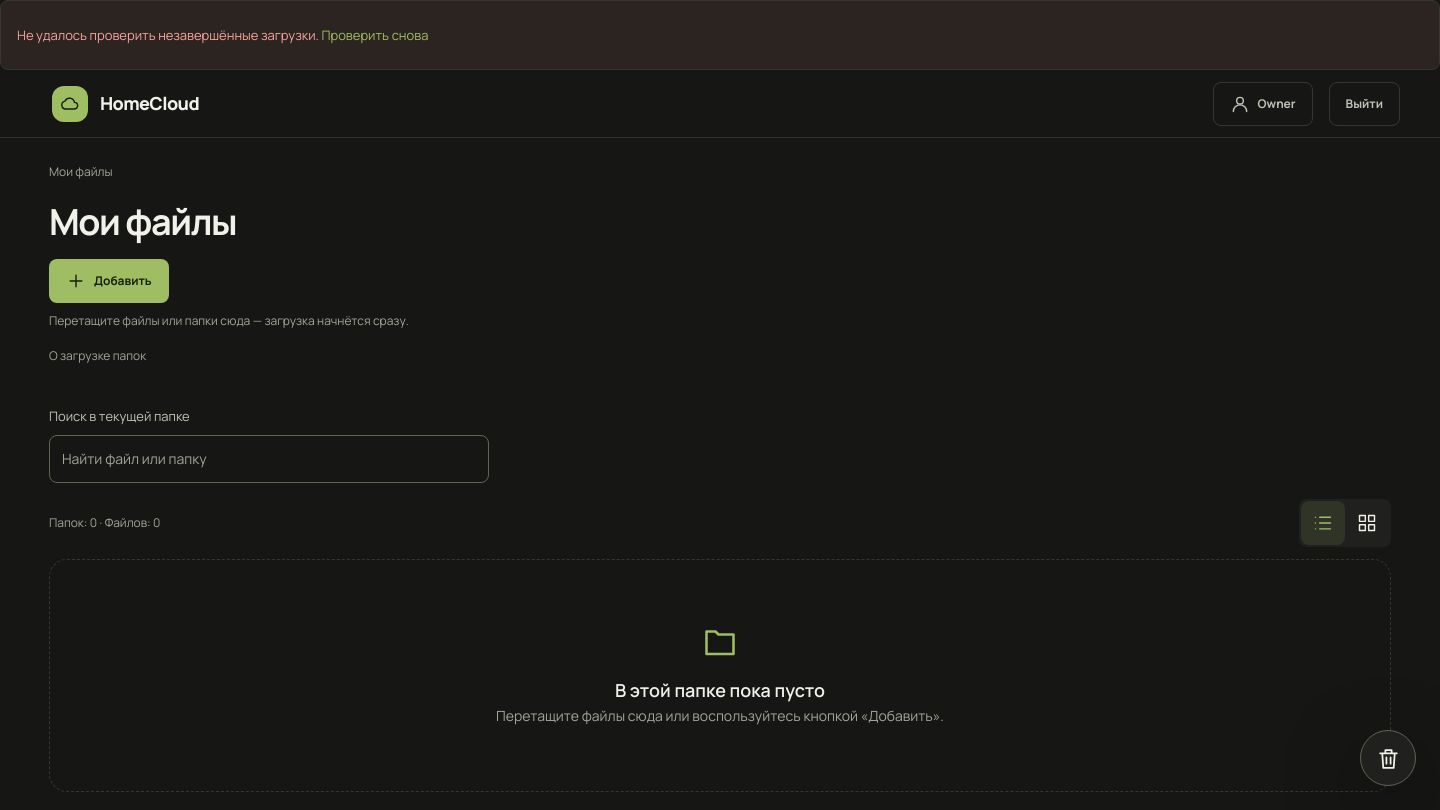
Test: authentication UX › keeps trash open when a nested destructive confirmation is cancelled
Click the button named "Открыть корзину".
click(1388, 758)  # box [1360,730,1416,786]
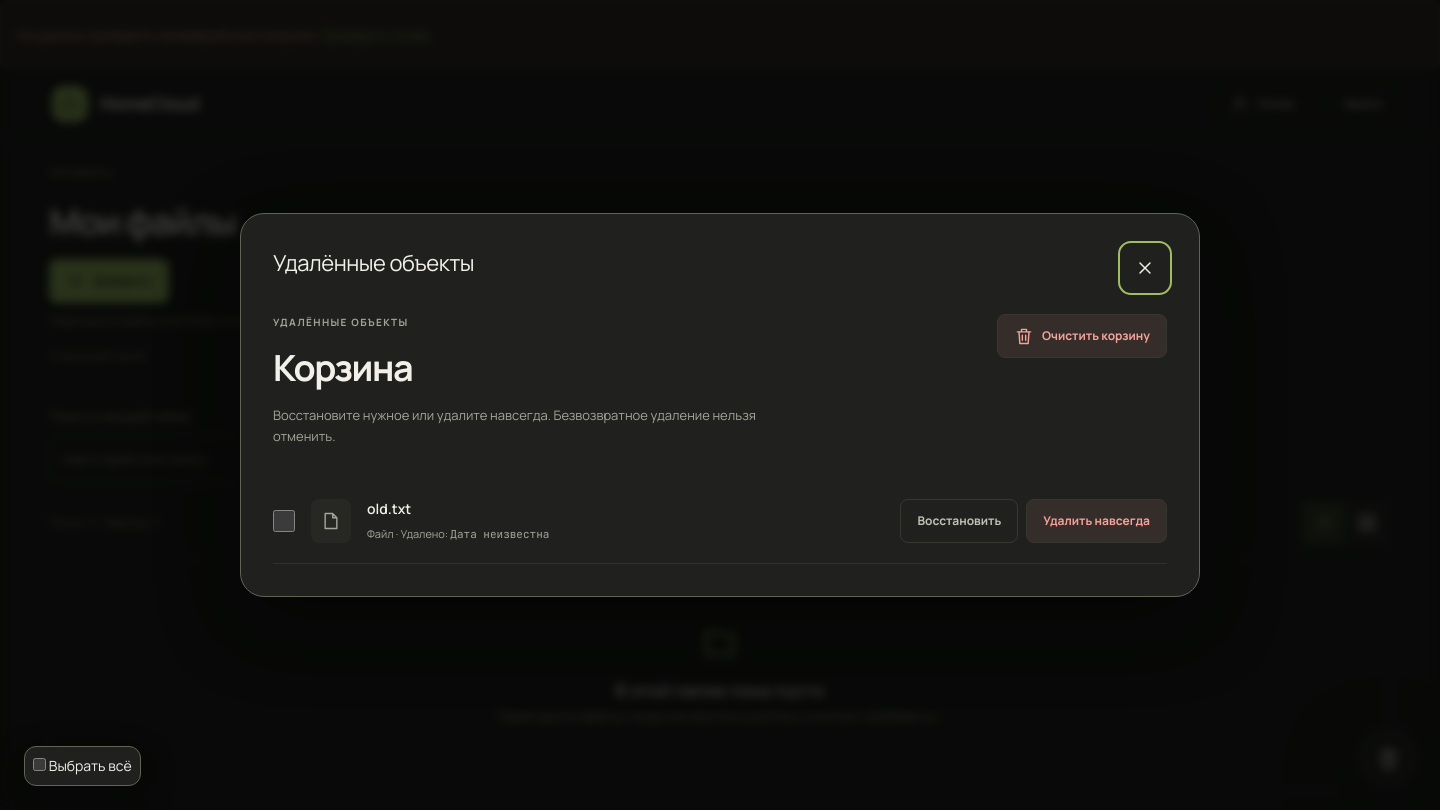
Click the button with aria-label "Удалить old.txt навсегда".
click(1097, 521)  # box [1026,499,1167,543]
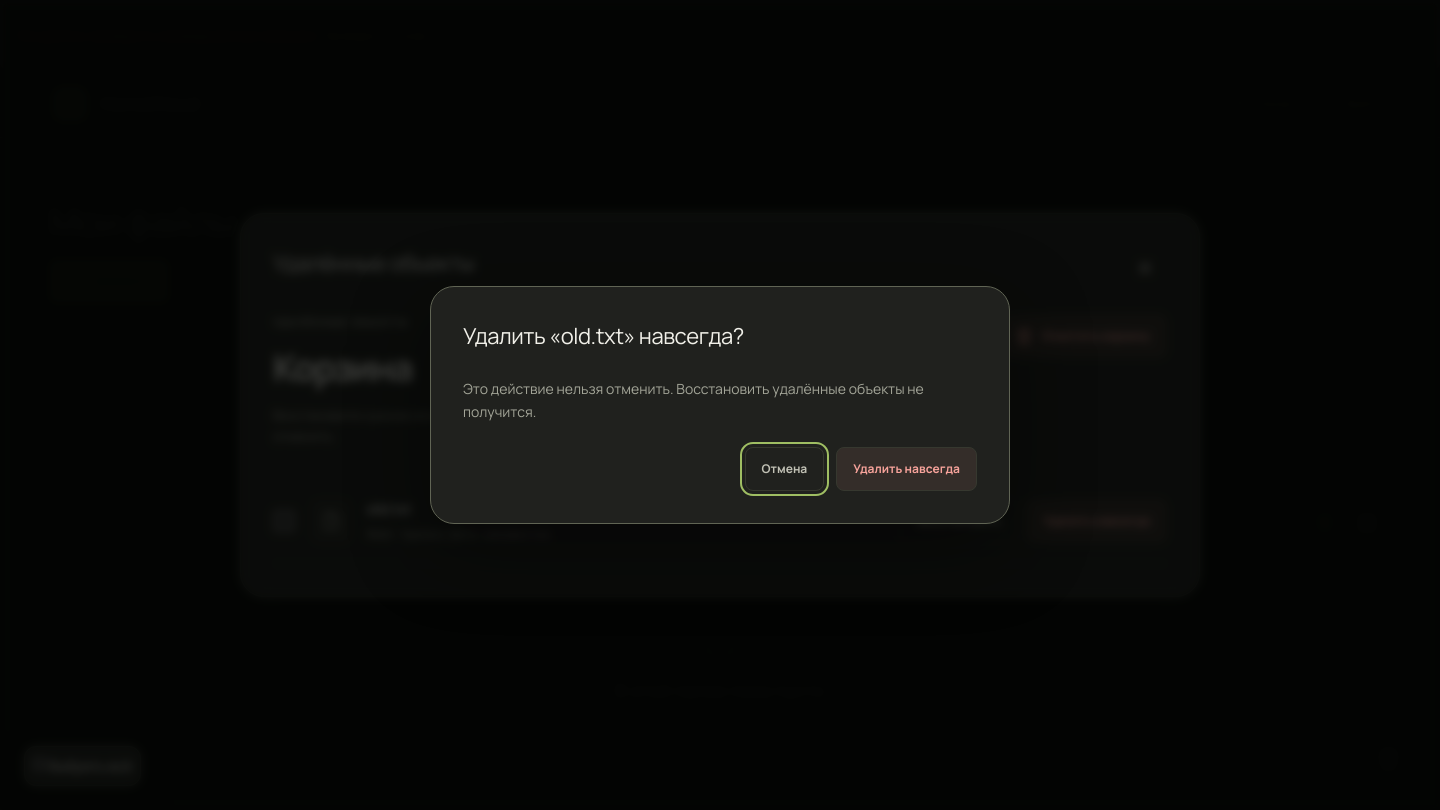
Press Escape
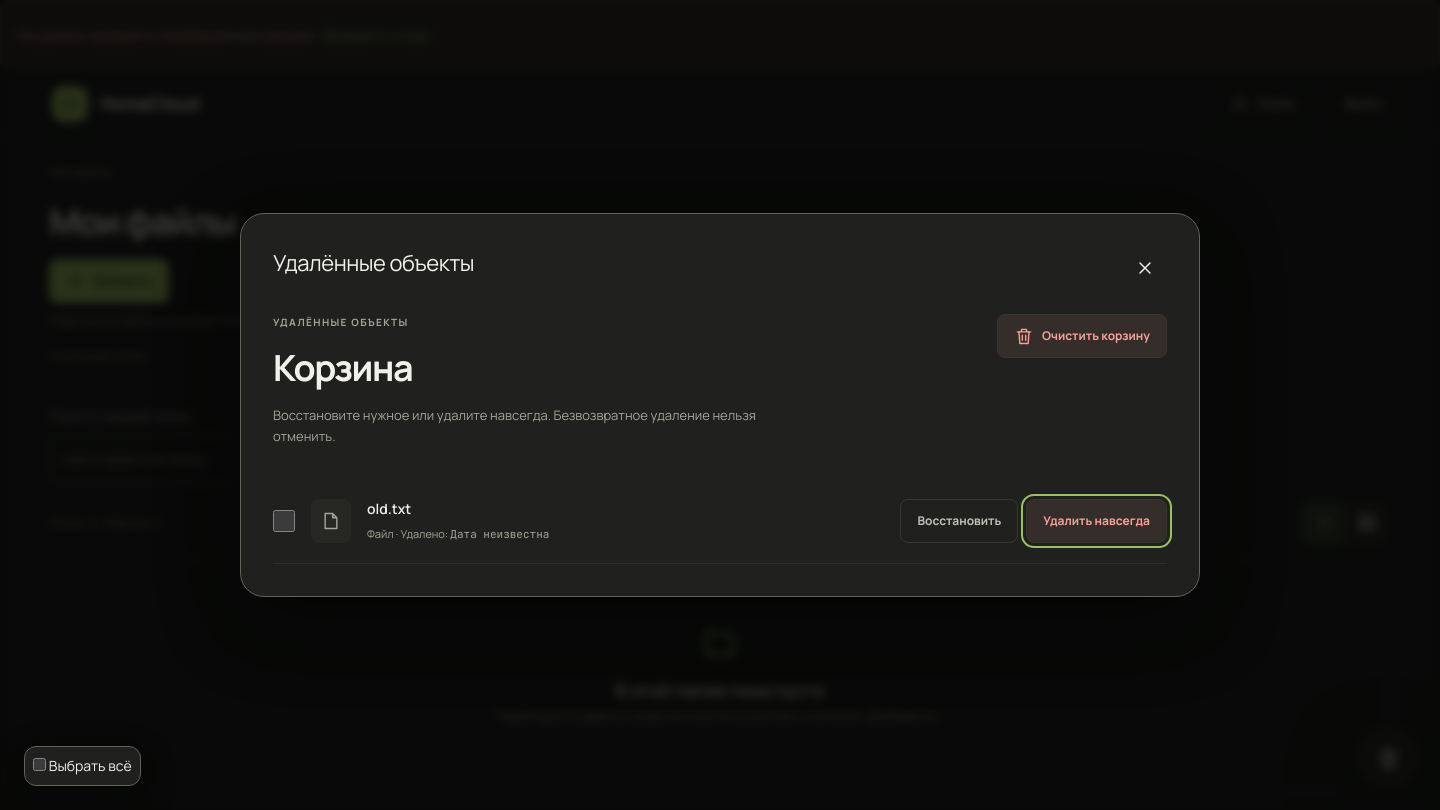
Result: the dialog "Корзина" is shown at [240,213,1200,597]
Result: the heading "Удалить «old.txt» навсегда?" is gone
Press Escape
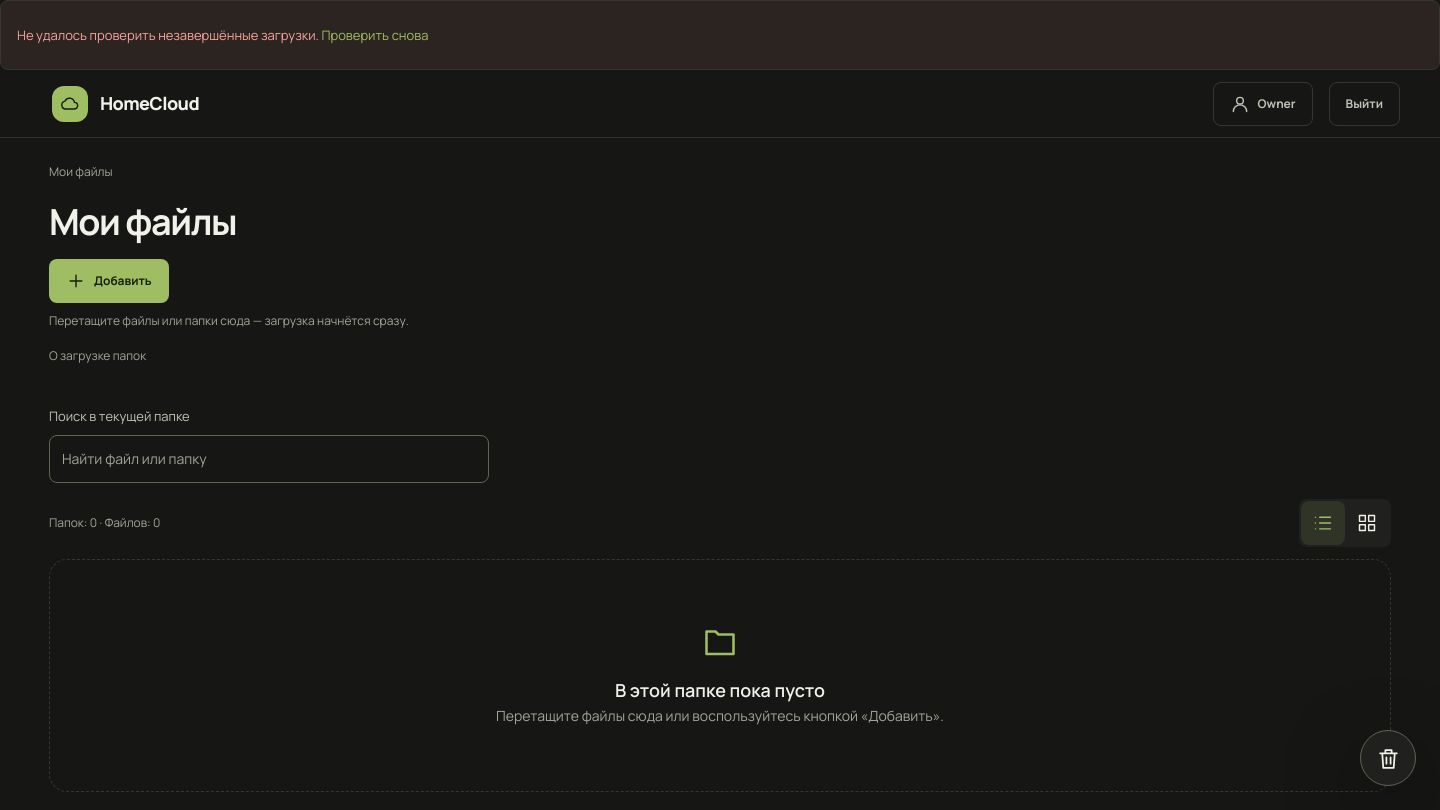
Result: the dialog is gone
